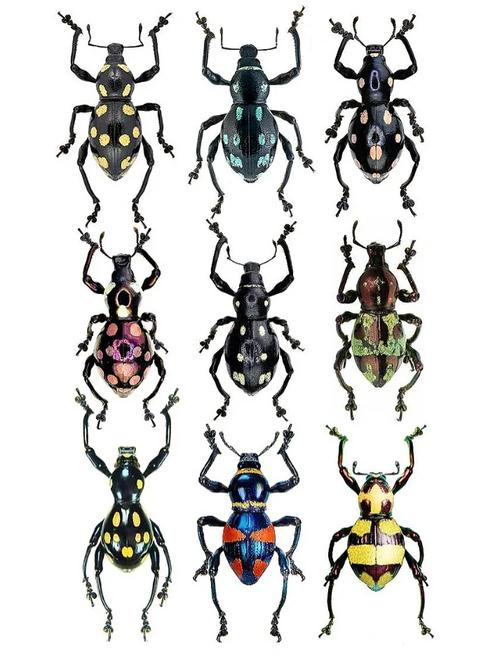Curculionidae: (74, 387, 180, 642), (188, 5, 315, 217), (53, 10, 175, 229), (318, 423, 437, 639), (191, 423, 305, 642), (199, 217, 305, 423), (324, 13, 425, 217), (73, 228, 169, 430), (332, 219, 425, 423)
